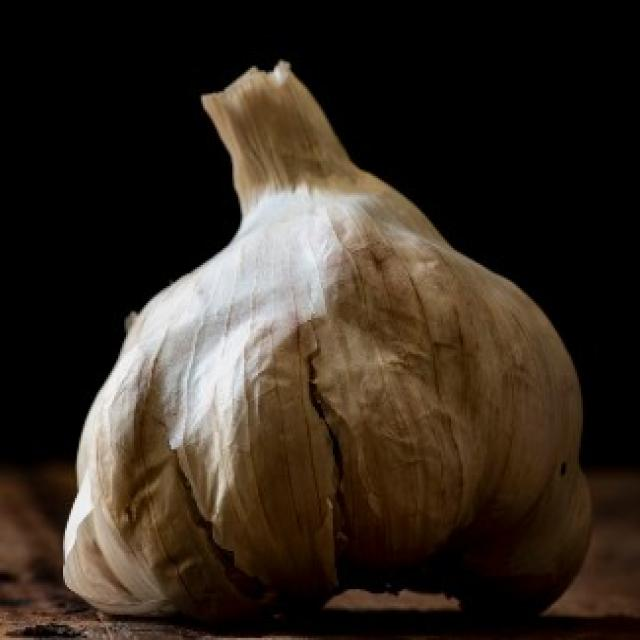garlic: (62, 62, 590, 623)
